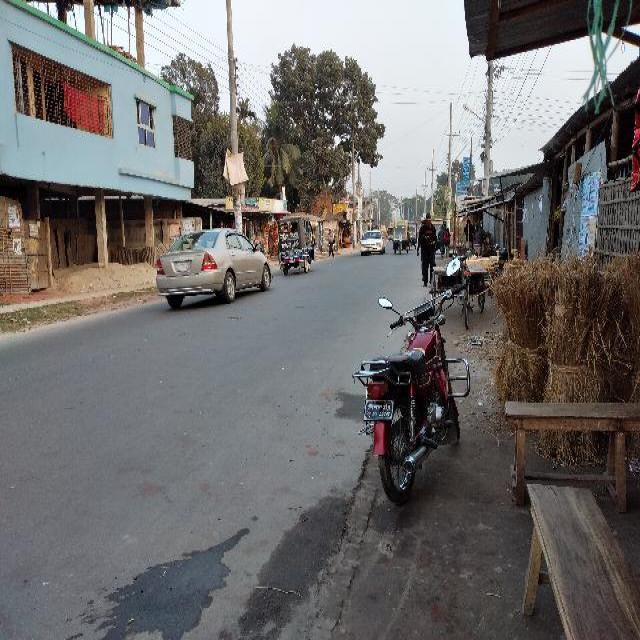bike: (348, 282, 475, 507)
vehicle: (154, 231, 275, 311), (273, 217, 317, 278), (427, 216, 447, 256), (360, 229, 387, 258), (392, 222, 409, 255), (410, 221, 418, 250), (380, 225, 388, 237), (389, 227, 394, 242)
